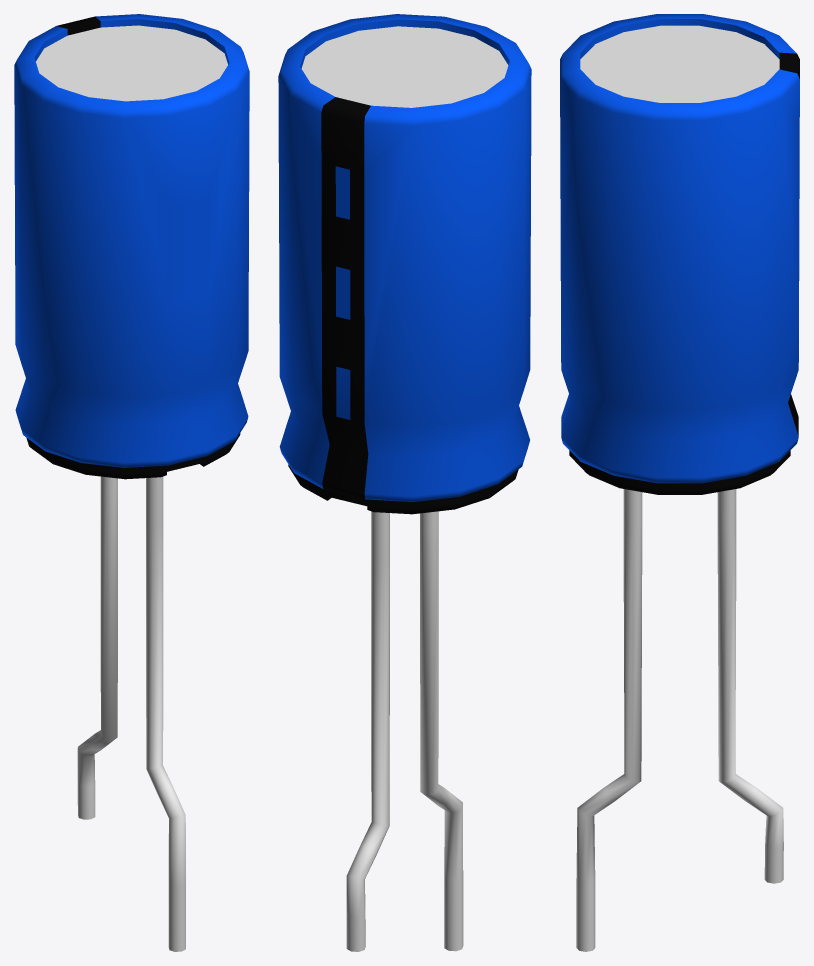
Rendered from Cylindric Capacitorfbx.fbx.
The picture shows the model from 3 angles, left to right: view 1: azimuth 30°, elevation 25°; view 2: azimuth 150°, elevation 25°; view 3: azimuth 270°, elevation 25°; orthographic projection. The views are drawn at different scales.
Parts seen in each view (by area): view 1: Capacitor-Cylindrical_6, Legs.010_4, Lid_5; view 2: Capacitor-Cylindrical_6, Legs.010_4, Lid_5; view 3: Capacitor-Cylindrical_6, Legs.010_4, Lid_5.
Boxes of the visible parts, x1,y1,x2,y2 form: Capacitor-Cylindrical_6: (14,14,249,479); Legs.010_4: (77,476,185,951); Lid_5: (36,25,227,101); Capacitor-Cylindrical_6: (278,14,531,514); Legs.010_4: (346,511,463,951); Lid_5: (301,26,508,107); Capacitor-Cylindrical_6: (560,14,799,494); Legs.010_4: (576,489,783,951); Lid_5: (580,25,779,102).
Bounding box in the file's own units: 236 × 964 × 236.
